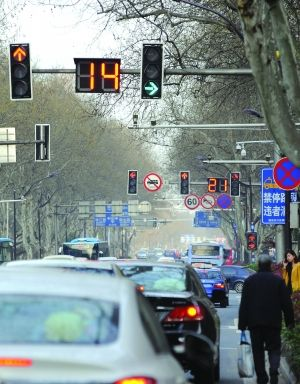green: (141, 39, 165, 103)
red: (7, 41, 36, 103), (178, 168, 191, 198), (126, 167, 139, 195), (228, 171, 241, 199)
